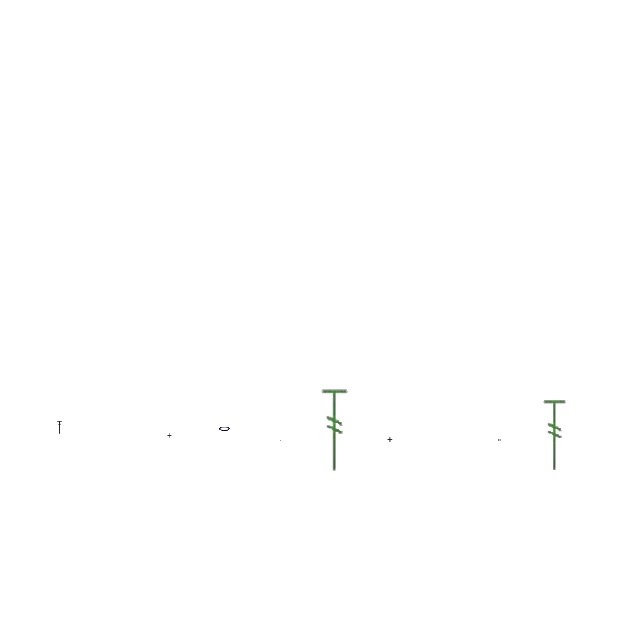chain: (218, 424, 232, 434), (498, 439, 502, 441), (279, 440, 281, 442)
double: (387, 438, 393, 442), (168, 434, 172, 438)
double treble: (58, 422, 62, 434)
fan: (319, 387, 351, 473), (541, 398, 569, 472)
